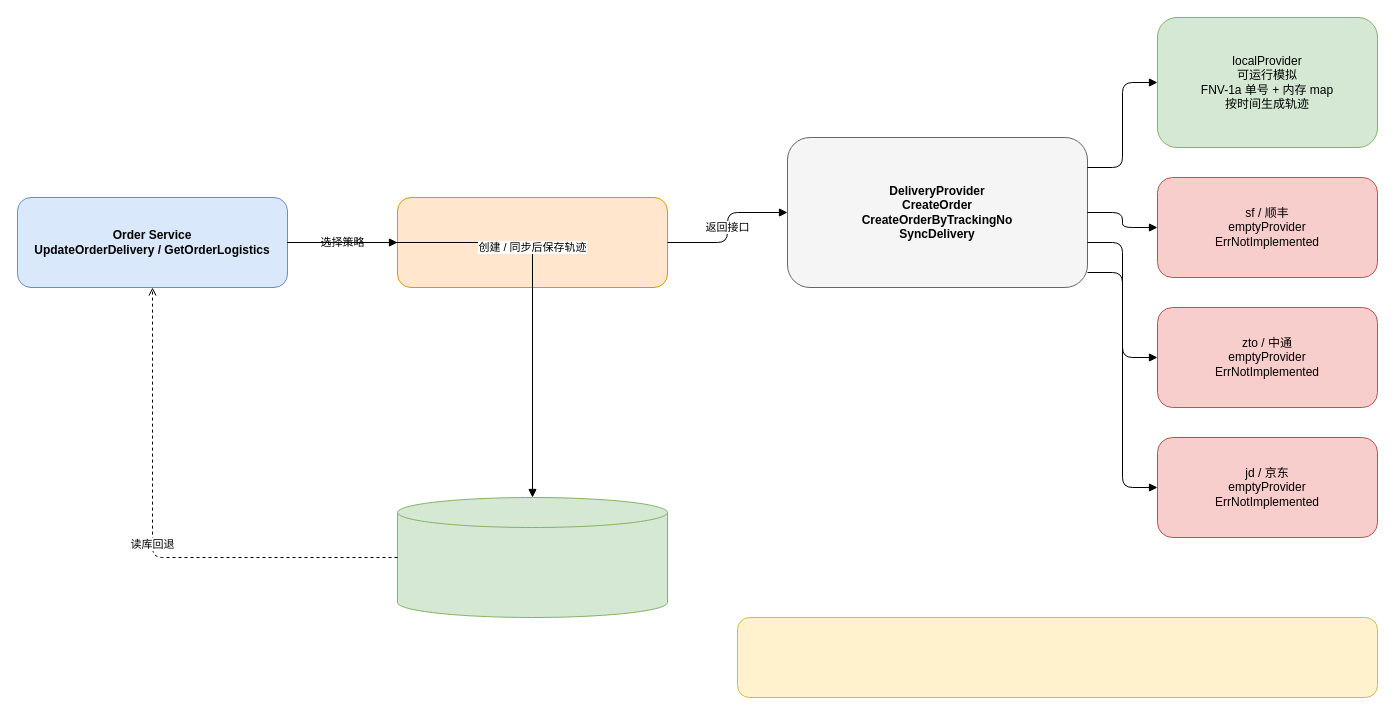
Some shapes in this 1395 by 715 pixel diagram are drawn without their labels. Here are the shapes that lost their labels. From the top down, the centre of each, then its label:
At [532,242]: "NewProvider(code) ParseProviderCode(name)".
At [532,557]: "order MySQL delivery_company delivery_sn delivery_info(JSON text)".
At [1057,657]: "边界：sf / zto / jd 只有策略入口，当前未接第三方；未知公司名回退 local。local 仅进程内，重启丢失。".
